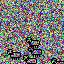sheep: (6, 48, 21, 60), (26, 36, 40, 48), (27, 46, 42, 57), (23, 54, 37, 64), (51, 58, 64, 64)
